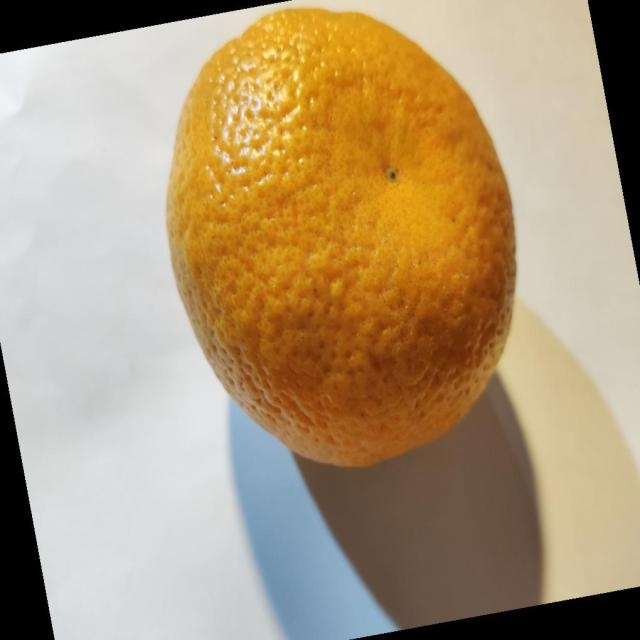agrume: (165, 6, 519, 468)
